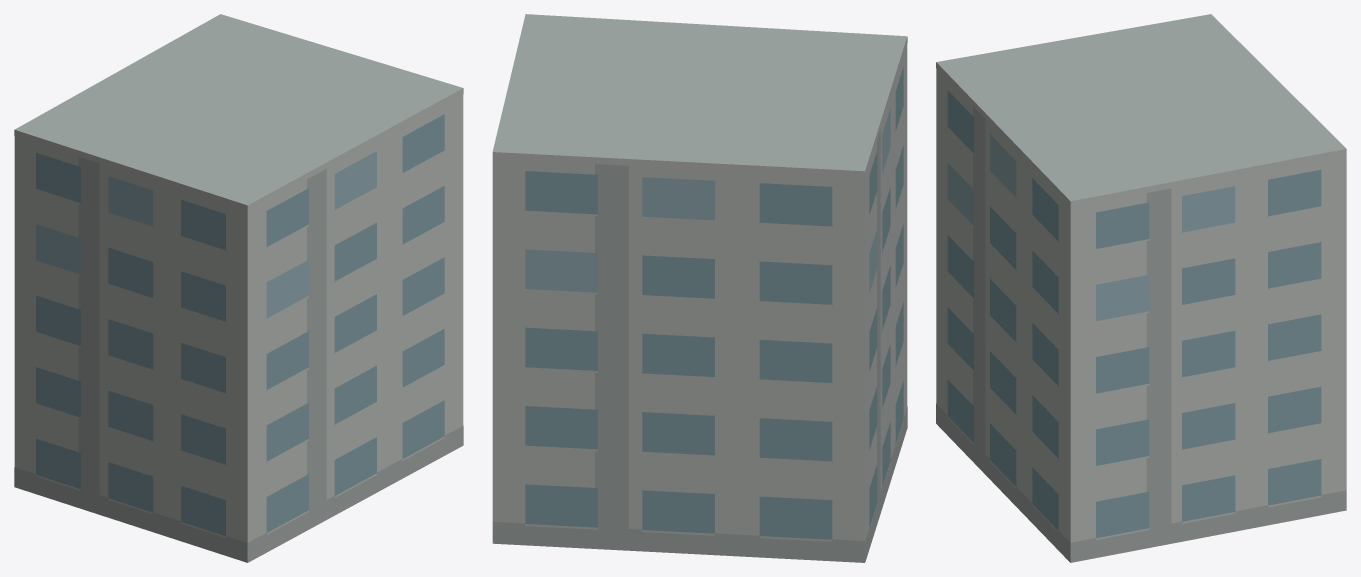
Rendered from survey-upis-32990693.glb.
3 views of the same model, side by side, from view 1: azimuth 30°, elevation 25°; view 2: azimuth 150°, elevation 25°; view 3: azimuth 270°, elevation 25° (orthographic). The views are drawn at different scales.
Visible parts, largest first — view 1: survey-upis-32990693.tmp; view 2: survey-upis-32990693.tmp; view 3: survey-upis-32990693.tmp.
Part boxes in pixels (left/top/right/bottom): survey-upis-32990693.tmp: left=14, top=14, right=463, bottom=562; survey-upis-32990693.tmp: left=492, top=14, right=907, bottom=562; survey-upis-32990693.tmp: left=936, top=14, right=1346, bottom=562.
Bounding box in the file's own units: 15.73 × 14.15 × 14.57.
